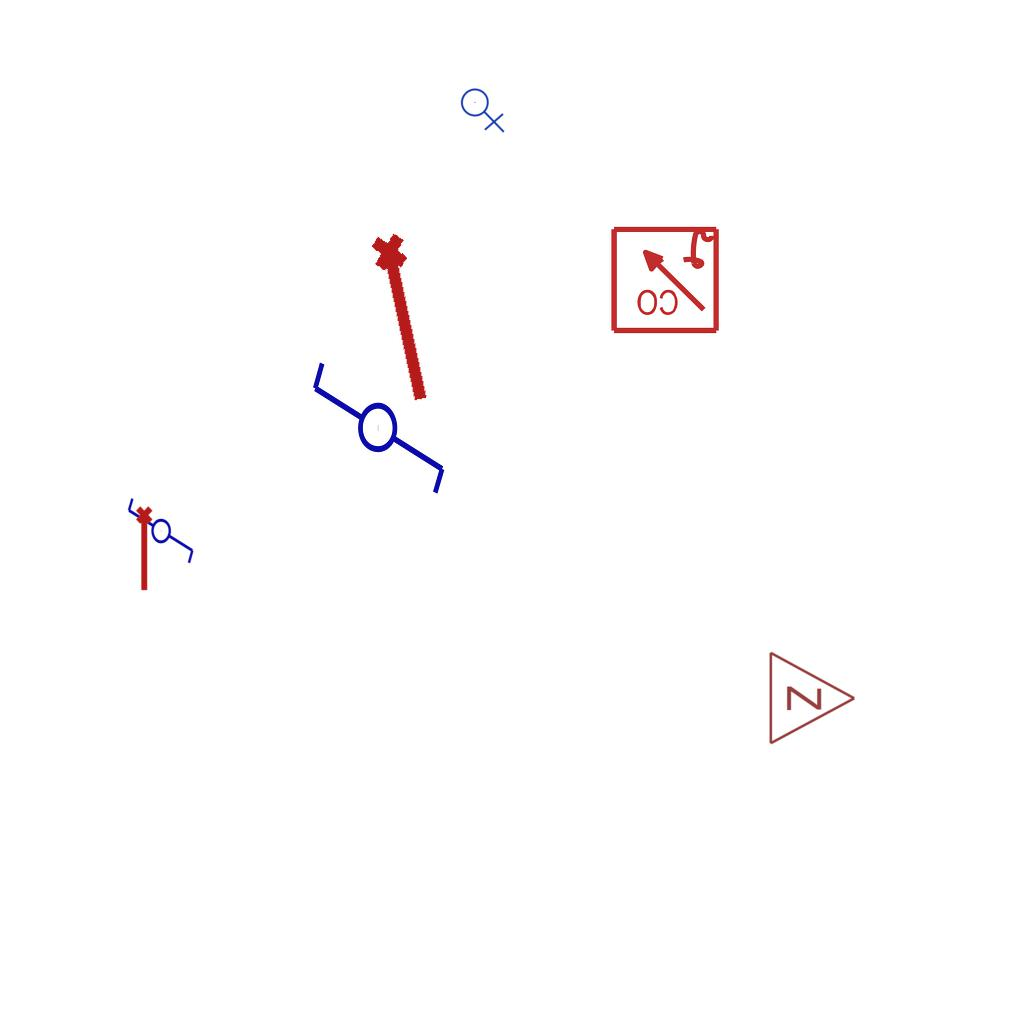ASR_Ansaugoeffnung: (365, 227, 447, 409), (134, 505, 157, 593)
Elektroanschluss_allgemein_230V_Geraeteanschlussdose_230V: (460, 84, 507, 133)
ROA_Rauchmelder_optisch_mit_Signalgeber_(Sockelsirene): (608, 222, 721, 335)
Wechselschalter: (308, 341, 452, 498), (124, 496, 196, 574)
Zimmersignalleuchte: (762, 648, 862, 746)
